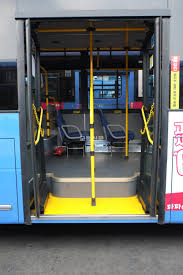entrance: (22, 17, 160, 223)
